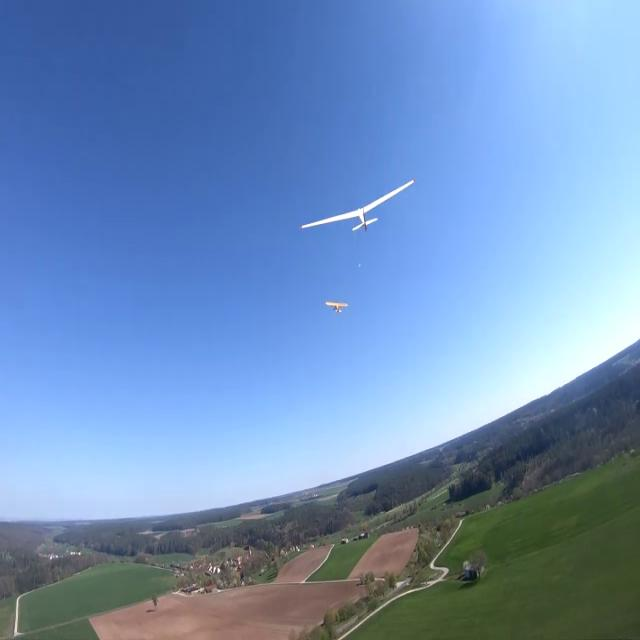iha: (329, 178, 387, 234), (326, 303, 348, 309)
